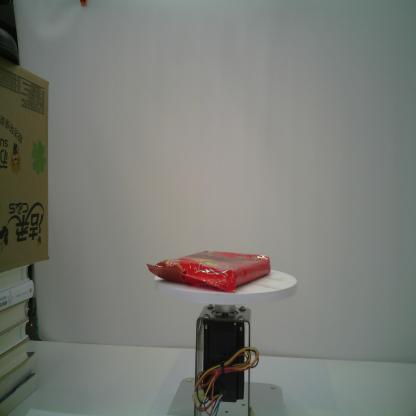Dessert: (146, 249, 272, 294)
